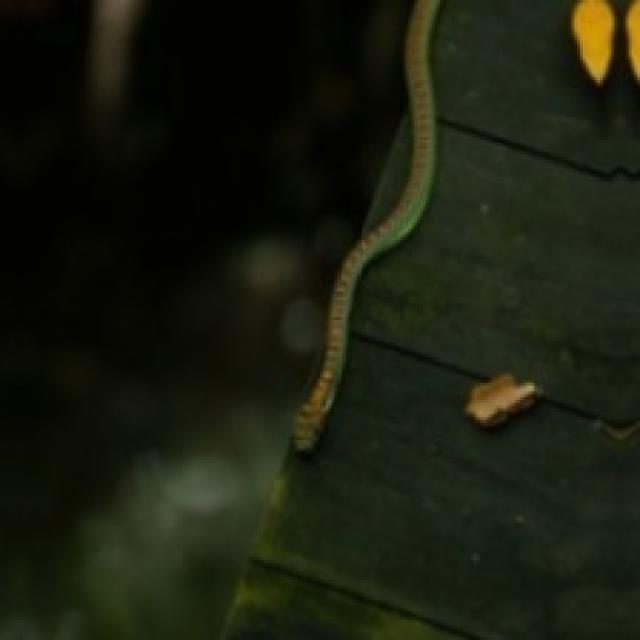paradise tree snake: (294, 0, 634, 451)
